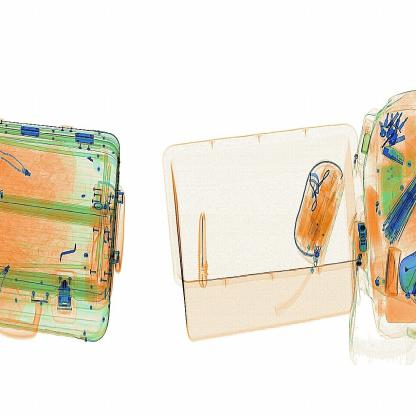pliers: (195, 210, 210, 291)
